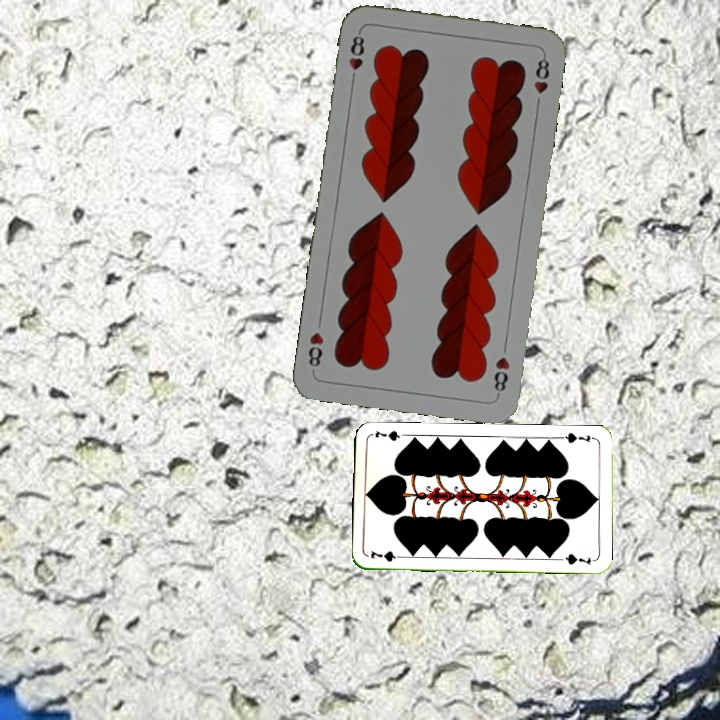G7: (367, 547, 407, 564), (557, 429, 597, 446)
H8: (345, 27, 367, 86), (490, 352, 512, 399)
